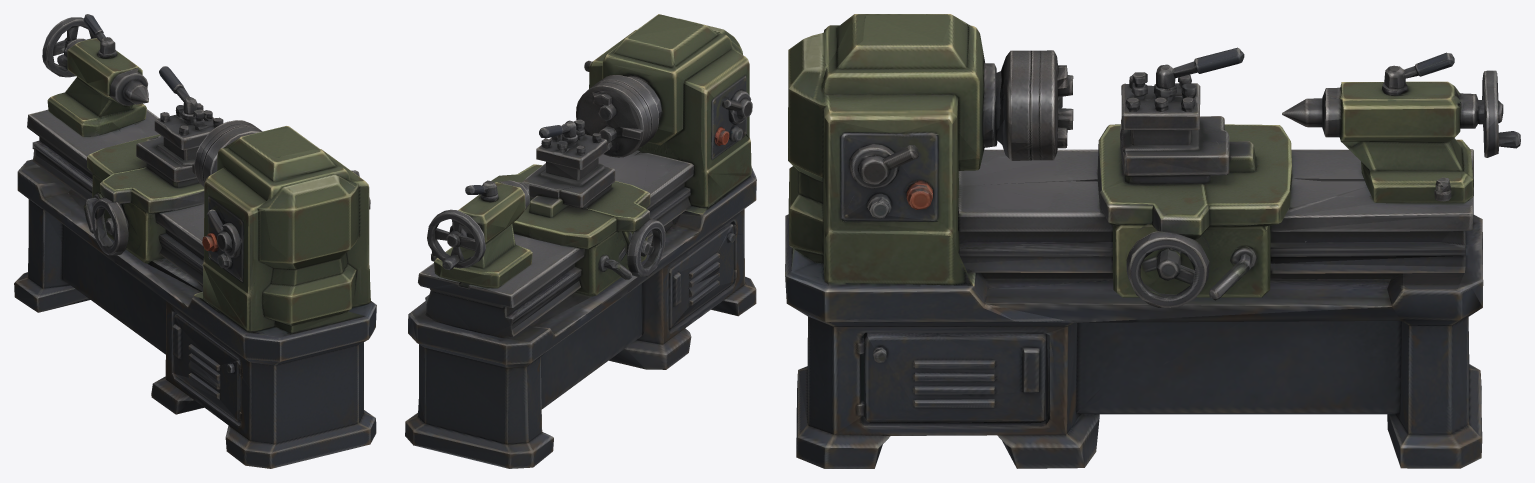
Rendered from machine_shop.glb.
3 views of the same model, side by side, from view 1: azimuth 30°, elevation 25°; view 2: azimuth 150°, elevation 25°; view 3: azimuth 270°, elevation 25° (orthographic). The views are drawn at different scales.
Visible parts, largest first — view 1: Mesh_0; view 2: Mesh_0; view 3: Mesh_0.
Boxes of the visible parts, x1,y1,x2,y2 form: Mesh_0: [14, 14, 376, 468]; Mesh_0: [405, 14, 756, 468]; Mesh_0: [785, 14, 1520, 468].
Size of what is drawn, in the model's own units: 0.828 by 1.29 by 2.17.
Materials: 1 (1 with a texture image).
